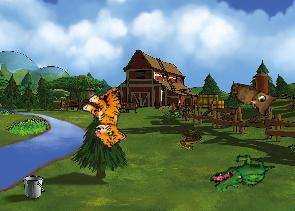crocodile: (207, 141, 276, 206)
owl: (226, 82, 277, 118)
tiger: (75, 81, 142, 151)
